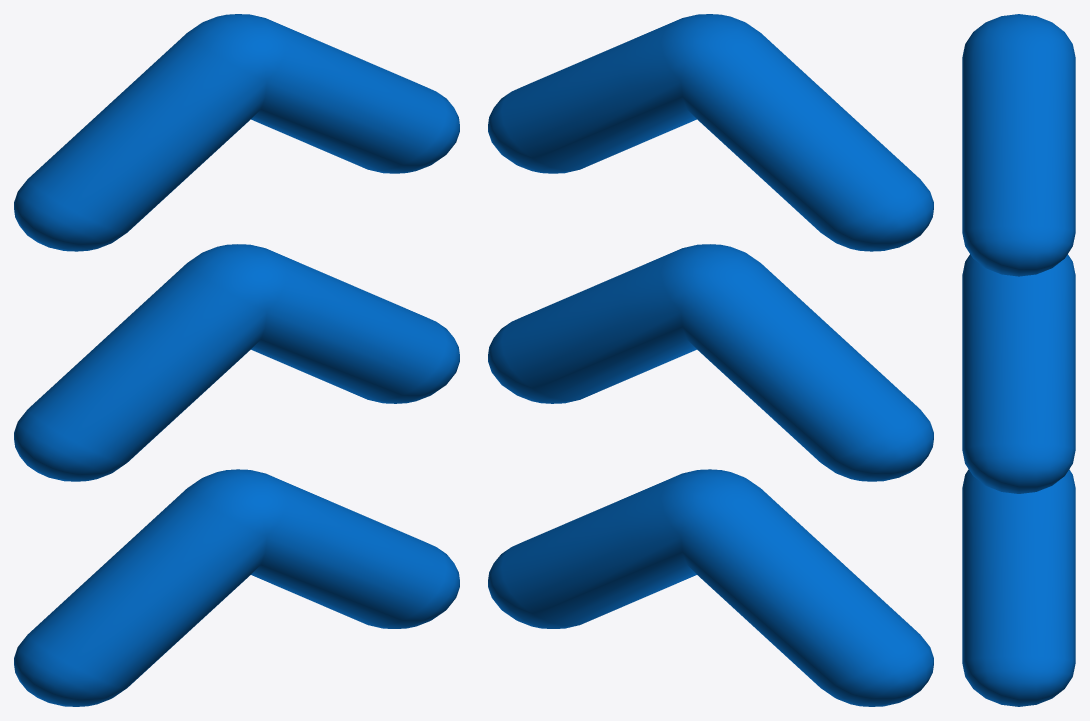
The model's file is JumpBoost.fbx.
3 views of the same model, side by side, from view 1: azimuth 30°, elevation 25°; view 2: azimuth 150°, elevation 25°; view 3: azimuth 270°, elevation 25° (orthographic). The views are drawn at different scales.
Visible parts, largest first — view 1: Cube; view 2: Cube; view 3: Cube.
Part boxes in pixels (bbox=[...]): Cube: bbox=[14, 14, 459, 706]; Cube: bbox=[488, 14, 933, 706]; Cube: bbox=[962, 14, 1075, 706].
Size of the model in its own units: 79.11 by 112 by 19.09.
